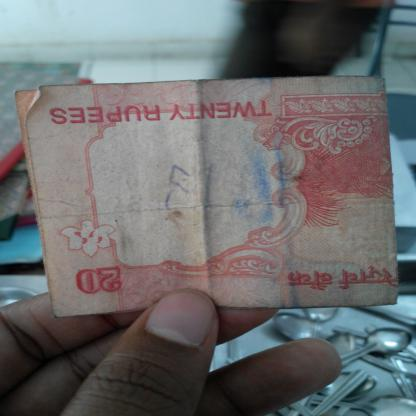Old20Back: (34, 80, 392, 309)
